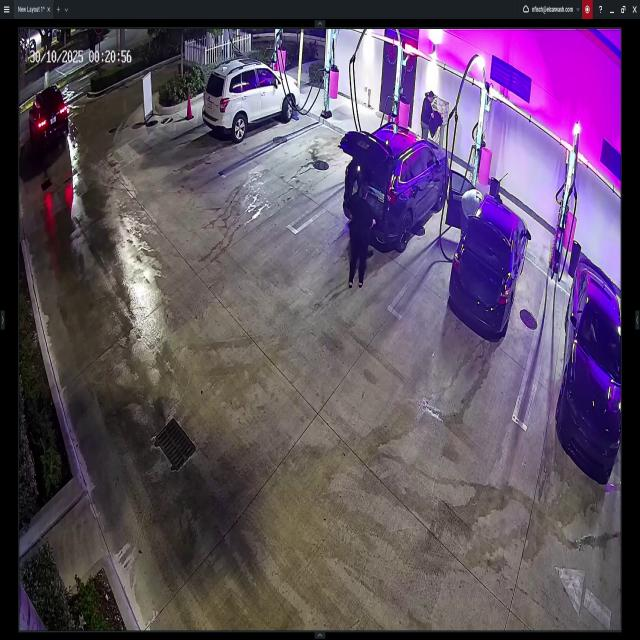Car: (557, 259, 621, 482), (342, 123, 452, 247), (451, 168, 529, 337), (202, 60, 302, 136), (30, 85, 68, 150)
